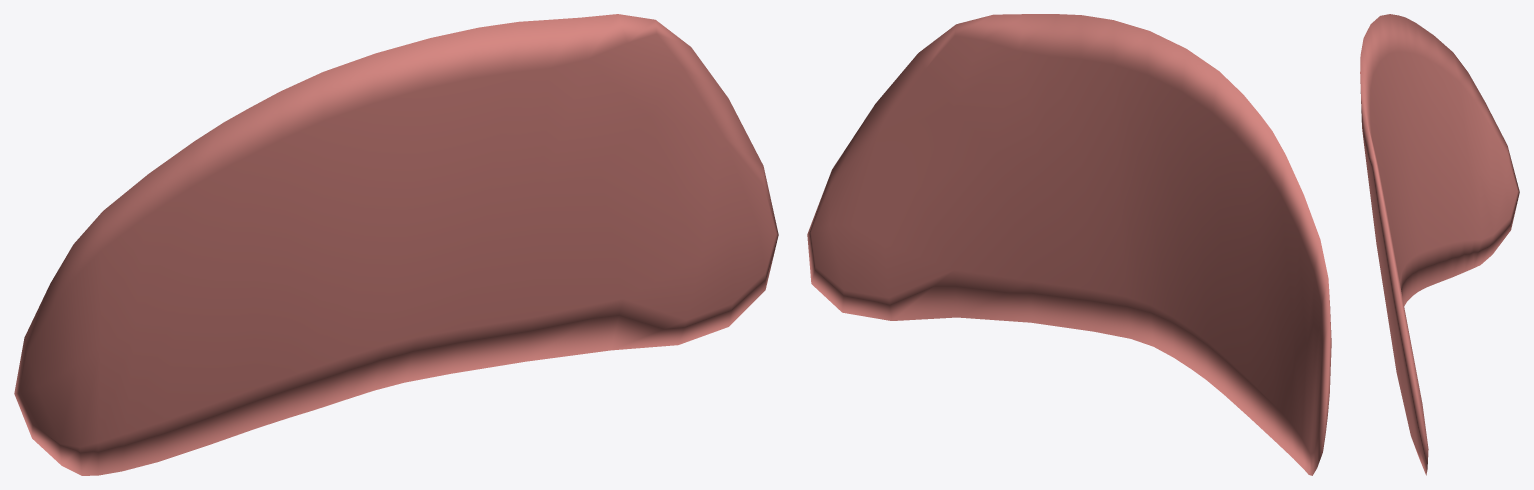
3 renders of one model, left to right at view 1: azimuth 30°, elevation 25°; view 2: azimuth 150°, elevation 25°; view 3: azimuth 270°, elevation 25°, orthographic. The views are drawn at different scales.
Parts seen in each view (by area): view 1: ZA_cee6f5eaaf6f4bbf; view 2: ZA_cee6f5eaaf6f4bbf; view 3: ZA_cee6f5eaaf6f4bbf.
Part boxes in pixels (<box>): ZA_cee6f5eaaf6f4bbf: <box>14,14,778,475</box>; ZA_cee6f5eaaf6f4bbf: <box>807,14,1331,475</box>; ZA_cee6f5eaaf6f4bbf: <box>1360,14,1519,475</box>.
Bounding box in the file's own units: 0.0233 × 0.0136 × 0.00595.
